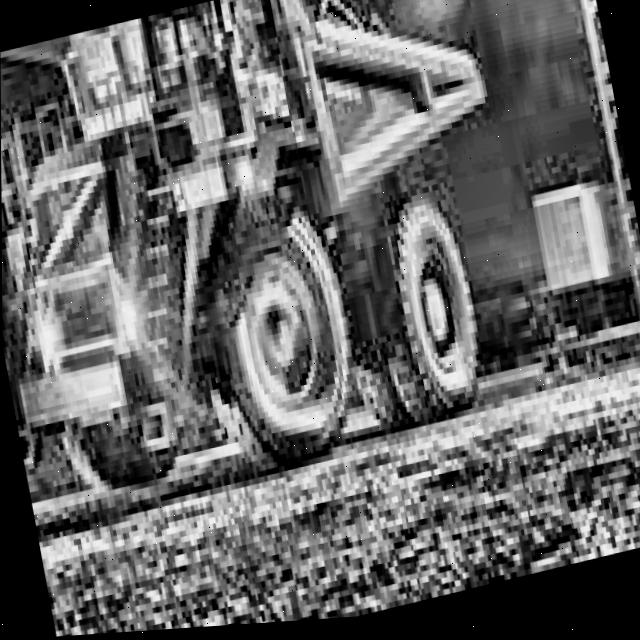dump_truck: (0, 0, 547, 533)
